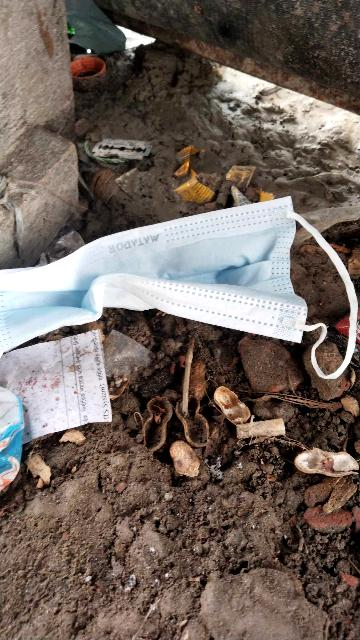mask: (0, 169, 360, 426)
